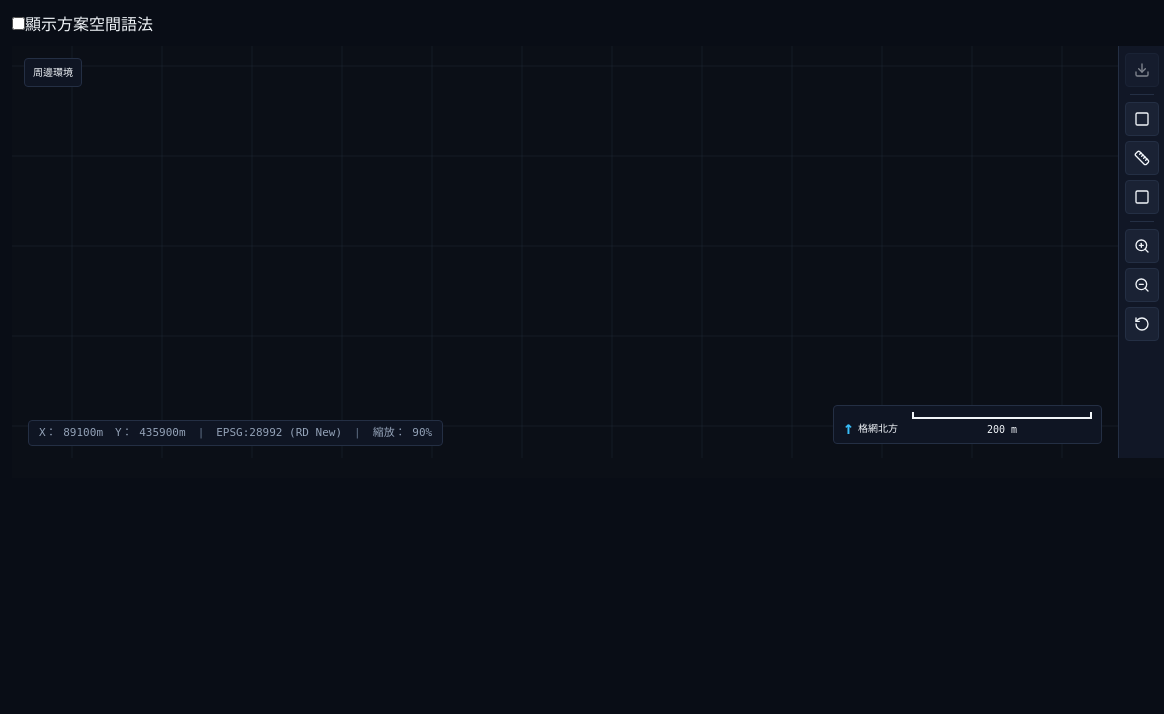
keeps motor NET2 descriptive without showing pedestrian waterfront thresholds
Click the checkbox with test id "fabric-syntax-toggle" at coordinates (18, 24), box [12,17,25,30]
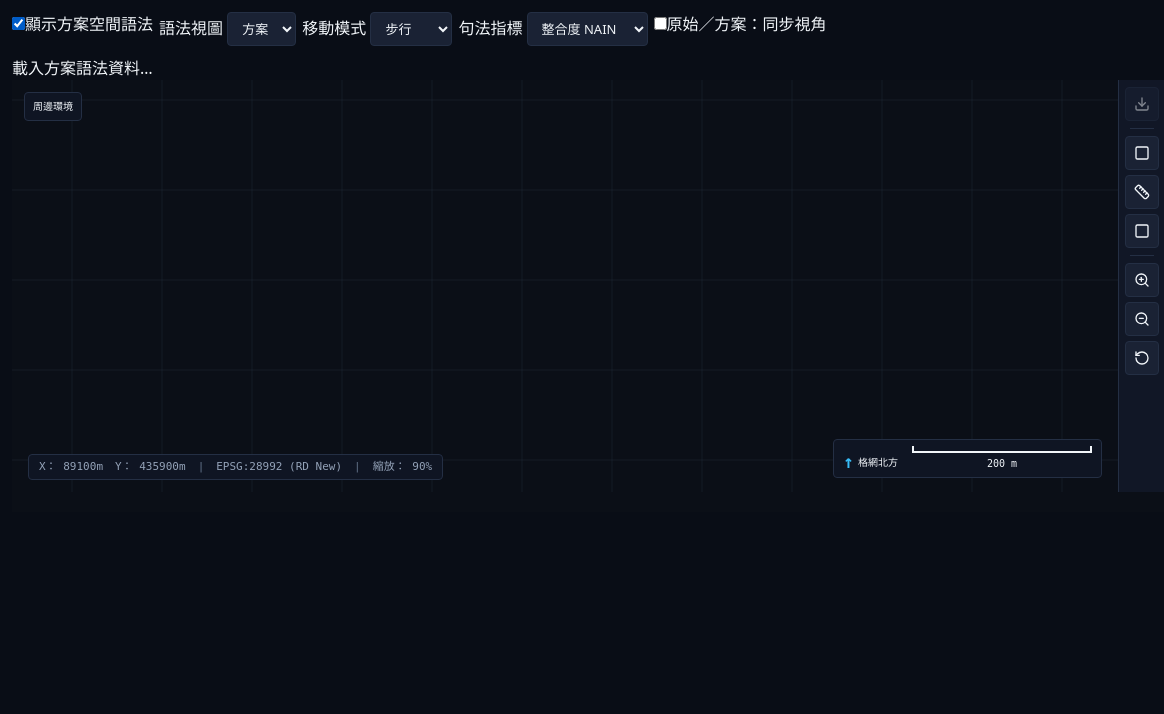
Select "汽車" in the dropdown with test id "fabric-syntax-mode" at coordinates (411, 29), box [370,12,452,46]
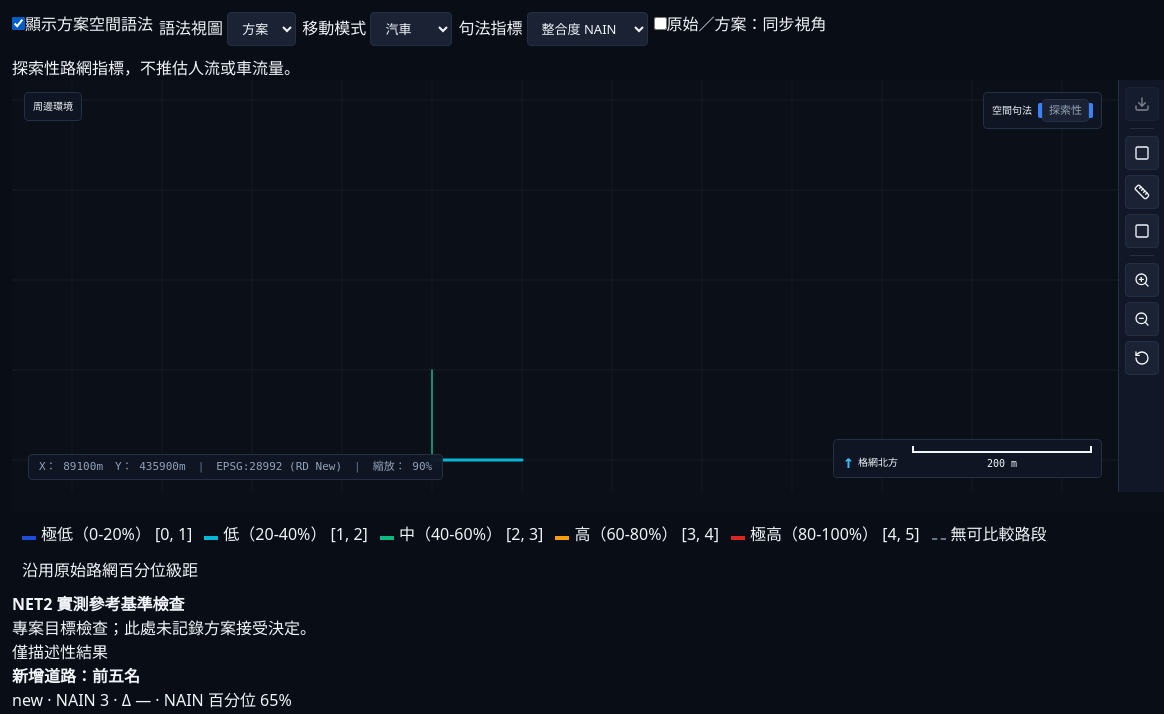
Expected: the element with test id "fabric-net2-checks" shows "僅描述性結果", [12,641,108,663]
